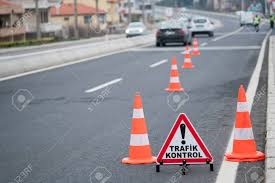car: (156, 22, 191, 47), (191, 18, 216, 38), (125, 22, 147, 39)
cone: (227, 84, 263, 163), (125, 95, 154, 165), (166, 56, 185, 92), (181, 48, 194, 68), (191, 38, 199, 55)
